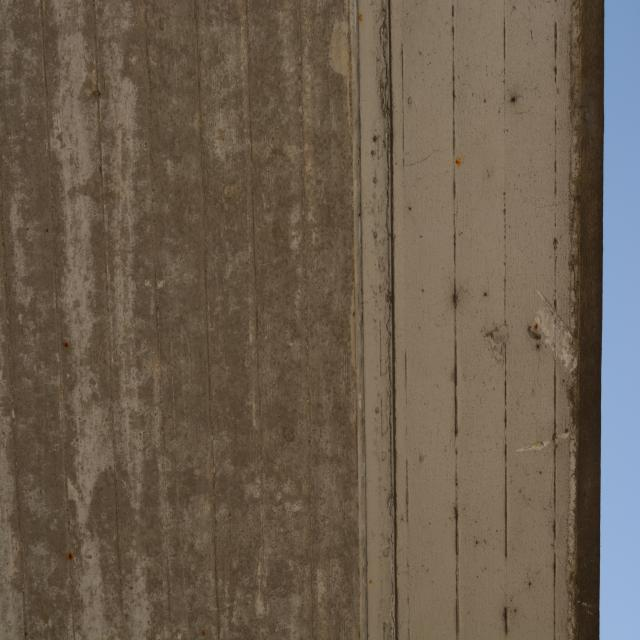corrosion: (451, 150, 464, 178), (532, 320, 542, 336)
